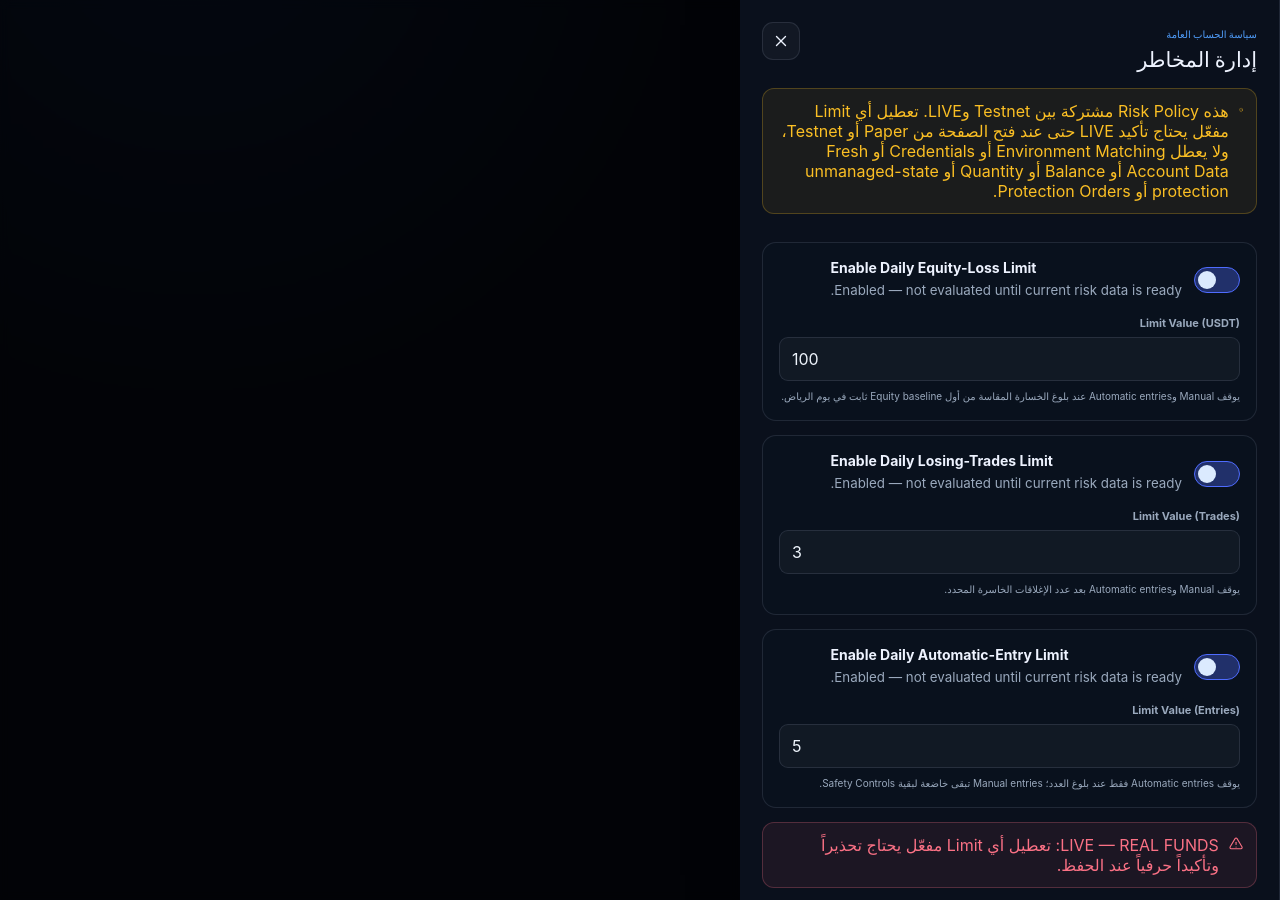
Test case: RiskManagementDrawer › does not save LIVE changes when the confirmation phrase is wrong
Click the checkbox labelled "Enable Daily Losing-Trades Limit" at (1010, 474), box x1=779 y1=452 x2=1240 y2=496
(page scrolled)
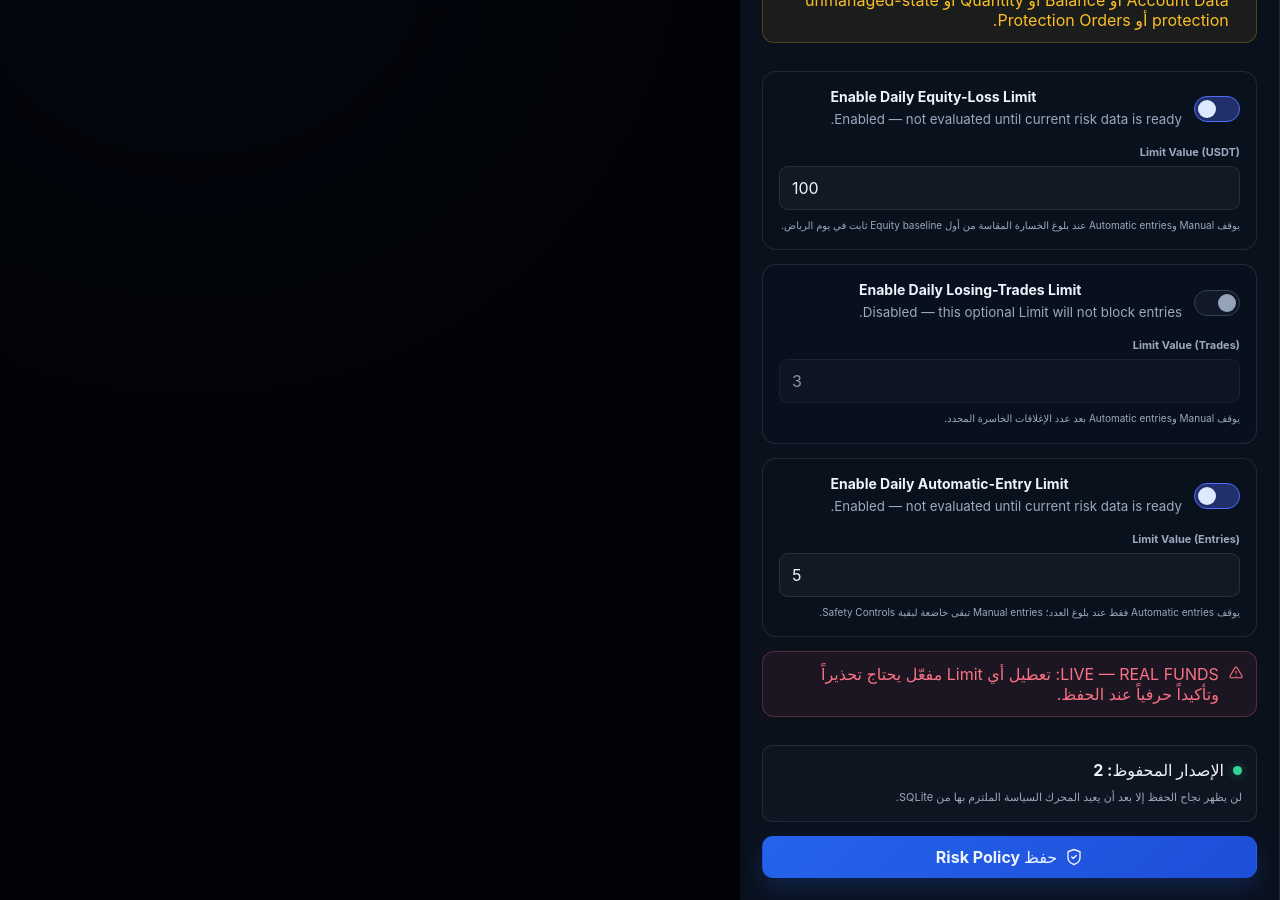
Click the button "حفظ Risk Policy" at (1010, 857), box x1=762 y1=836 x2=1257 y2=878
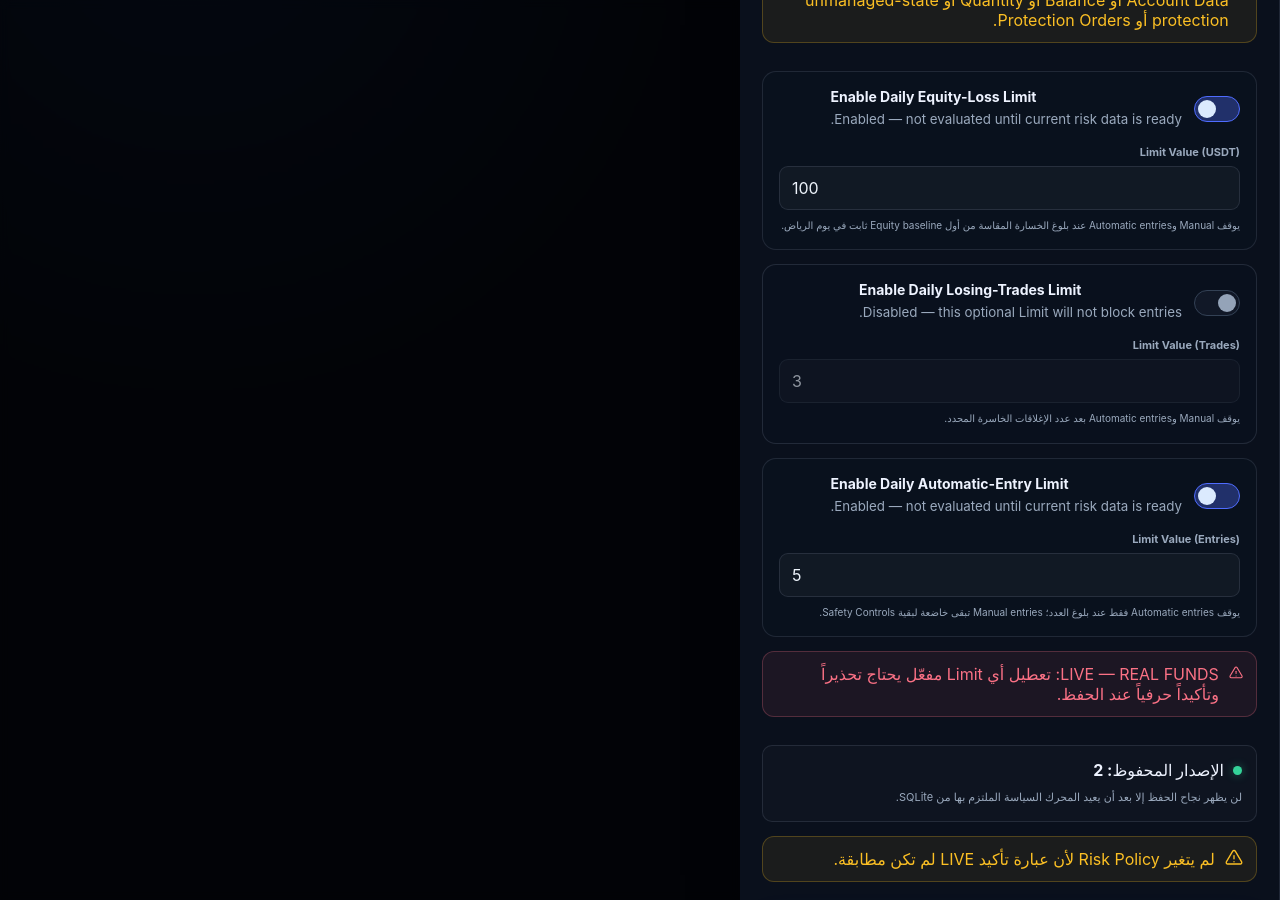
Now the text "لم يتغير Risk Policy لأن عبارة تأكيد LIVE لم تكن مطابقة." is shown, box x1=833 y1=849 x2=1215 y2=869
